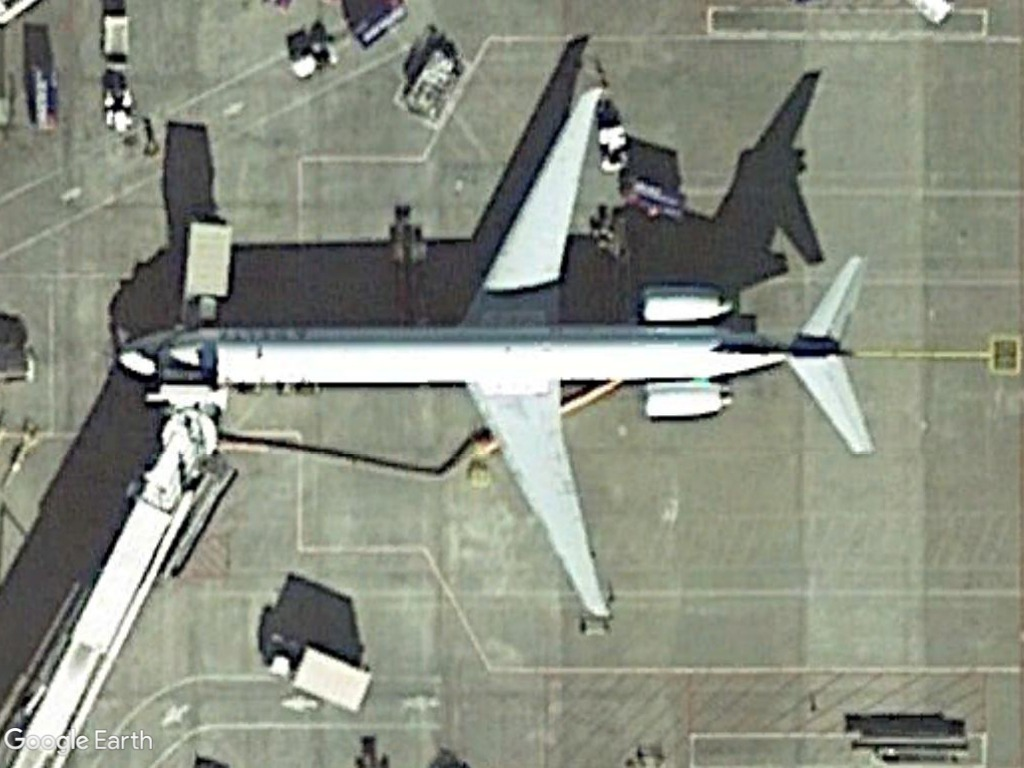chartered: (104, 77, 890, 634)
